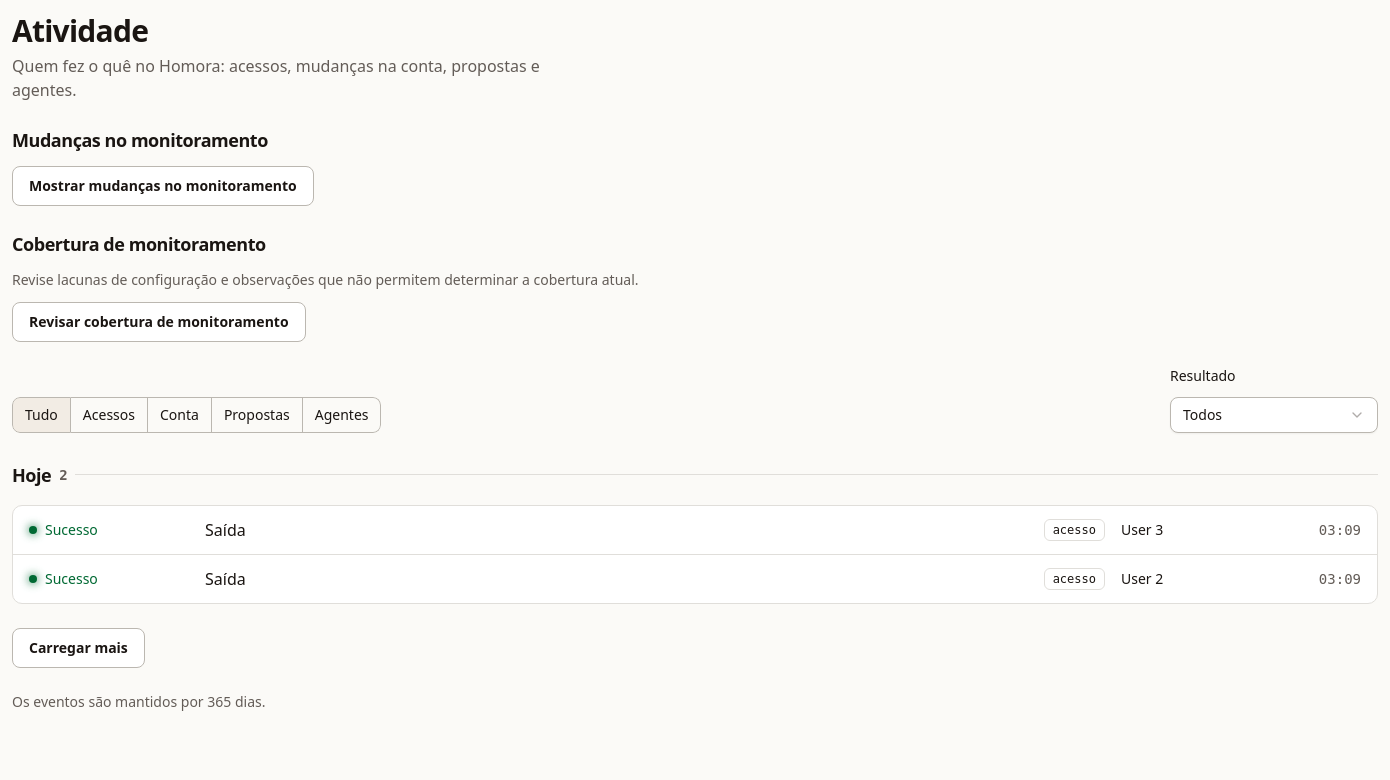
Test case: loads more events with the cursor and hides the button at the end
Click the button "Carregar mais" at (78, 648), box [12, 628, 145, 668]
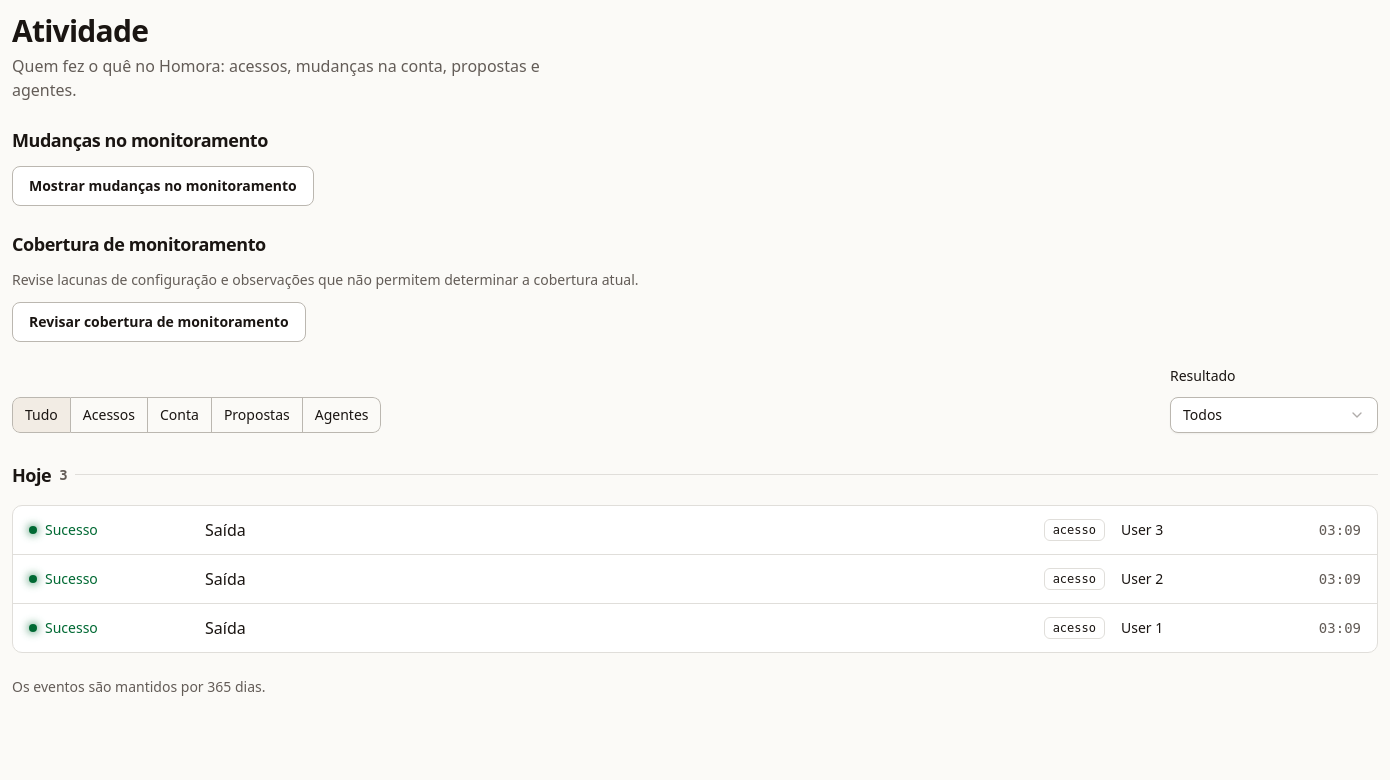
Check: the text "User 1" is shown, box [1121, 618, 1163, 637]
Check: the button "Carregar mais" is gone
